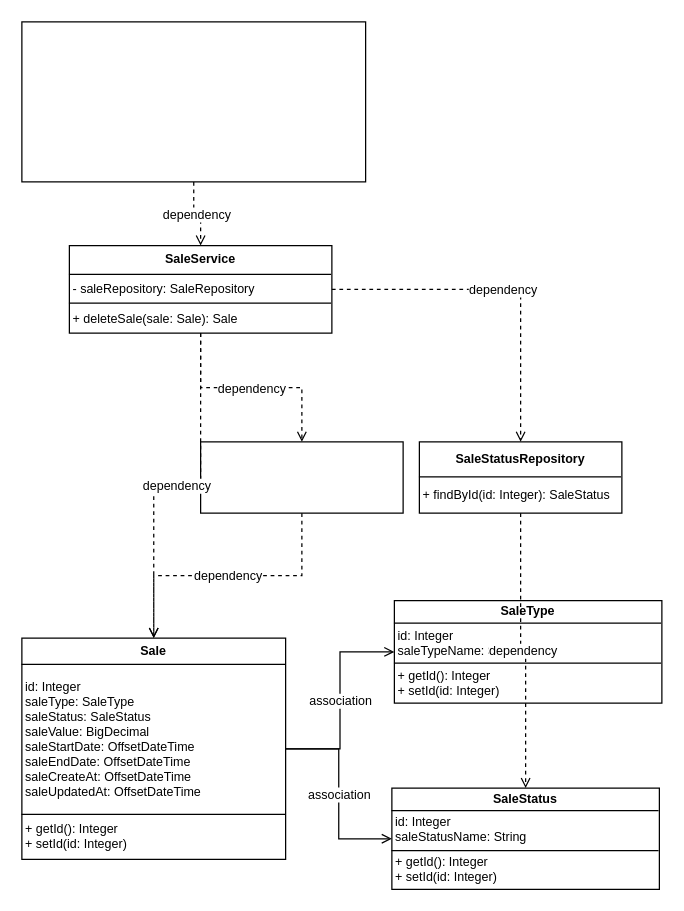
The diagram is 684 pixels wide and 911 high, and some of its shapes have lost their labels. The centre of each missing label's shape, as x and y in pixels:
"SaleRepository + save(sale: Sale): Sale + findById(saleId: Integer): Sale" belongs at (x=301, y=477).
"SaleRestController - saleService: SaleService + deleteSale(sale: Sale): Object" belongs at (x=193, y=101).
